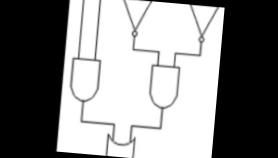and: (144, 61, 182, 112), (65, 54, 103, 105)
not: (182, 4, 222, 46), (115, 0, 153, 40)
or: (102, 131, 137, 158)
